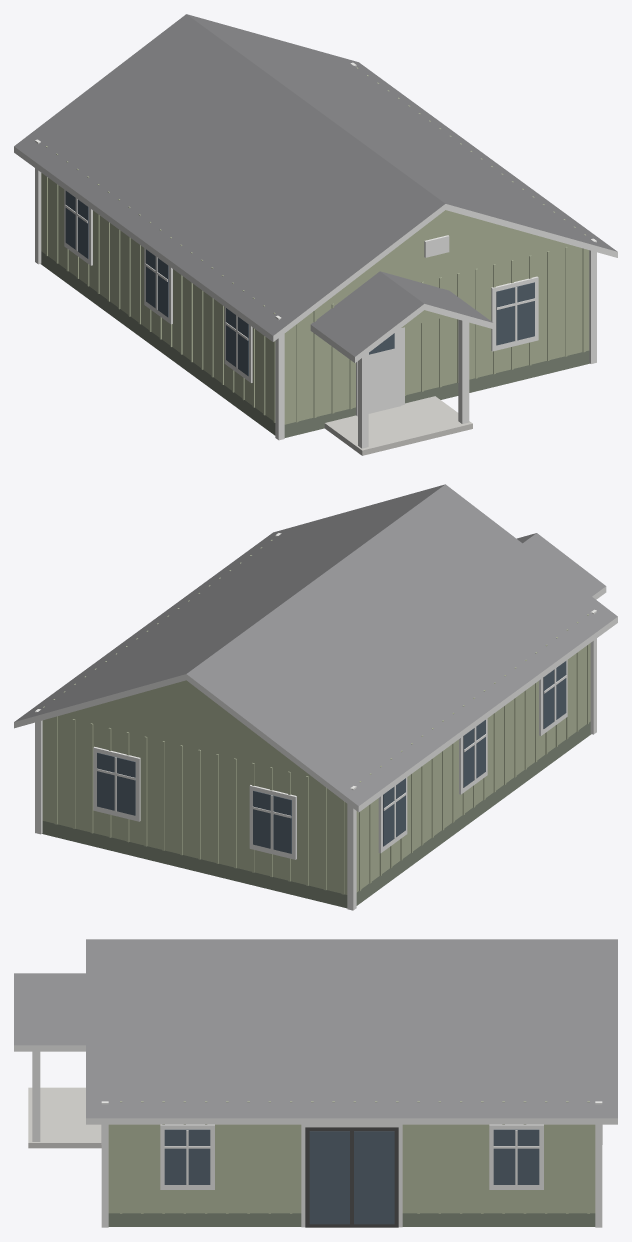
File: walnut-sage.glb
3 renders of one model, top to bottom at view 1: azimuth 30°, elevation 25°; view 2: azimuth 150°, elevation 25°; view 3: azimuth 270°, elevation 25°, orthographic. The views are drawn at different scales.
Visible parts, largest first — view 1: The Walnut (sage); view 2: The Walnut (sage); view 3: The Walnut (sage).
Boxes of the visible parts, left/top/right/bottom form: The Walnut (sage): left=14, top=14, right=617, bottom=455; The Walnut (sage): left=14, top=484, right=617, bottom=910; The Walnut (sage): left=14, top=939, right=617, bottom=1227.
Size of the model in its own units: 8.08 by 4.57 by 11.94.
